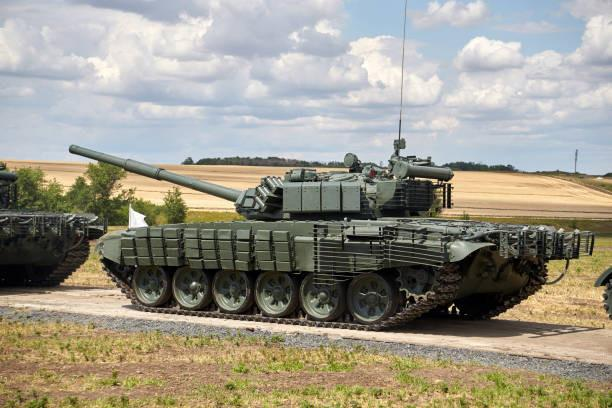tank: (69, 146, 589, 330), (0, 161, 92, 286)
